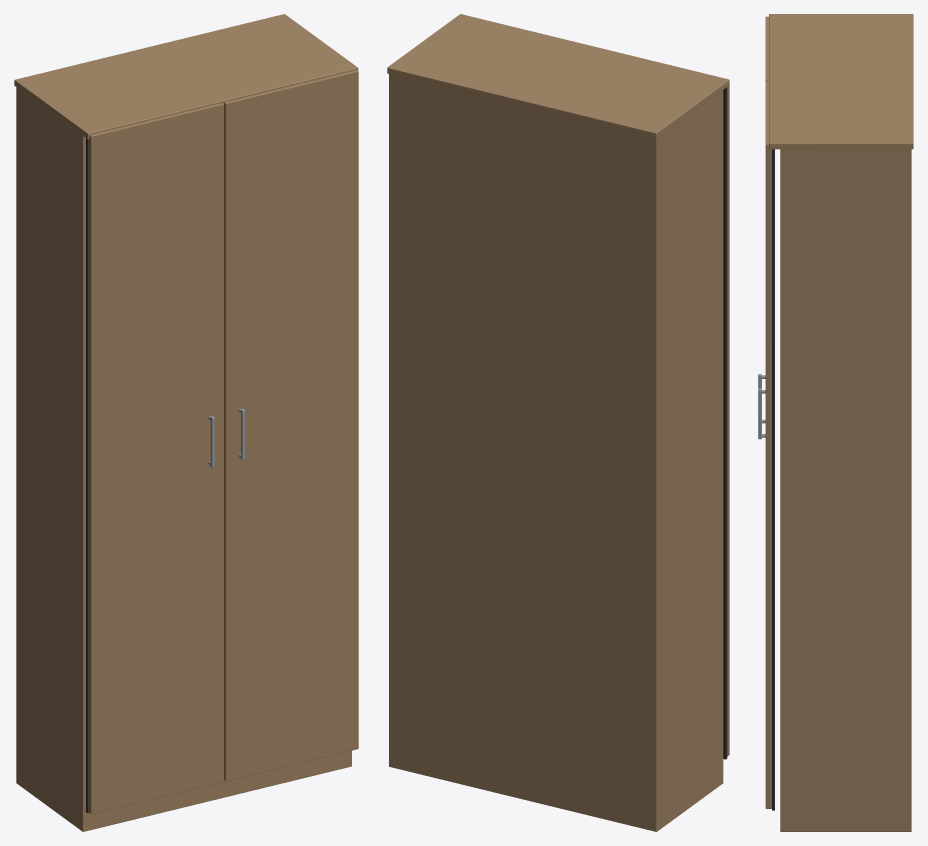
The model's file is original-shoe-tall.glb.
3 views of the same model, side by side, from view 1: azimuth 30°, elevation 25°; view 2: azimuth 150°, elevation 25°; view 3: azimuth 270°, elevation 25° (orthographic).
Parts seen in each view (by area): view 1: Cabinet carcass, Recessed plinth; view 2: Cabinet carcass, Recessed plinth; view 3: Cabinet carcass, Recessed plinth, Handle mounting foot.
Part boxes in pixels (bbox=[...]): Cabinet carcass: bbox=[14, 14, 358, 831]; Recessed plinth: bbox=[86, 138, 88, 813]; Cabinet carcass: bbox=[387, 14, 729, 831]; Recessed plinth: bbox=[723, 87, 727, 759]; Cabinet carcass: bbox=[765, 14, 913, 831]; Recessed plinth: bbox=[772, 149, 774, 810]; Handle mounting foot: bbox=[758, 374, 765, 439].
Size of the model in its own units: 0.804 by 2 by 0.408.
